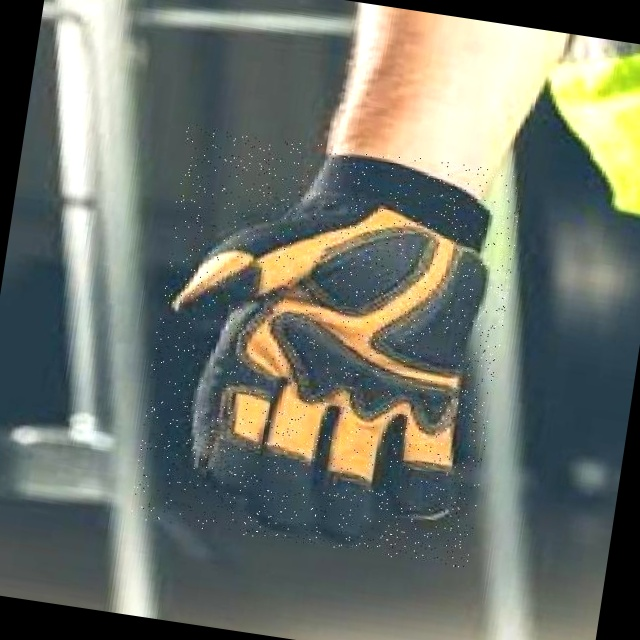gloves: (168, 156, 488, 533)
